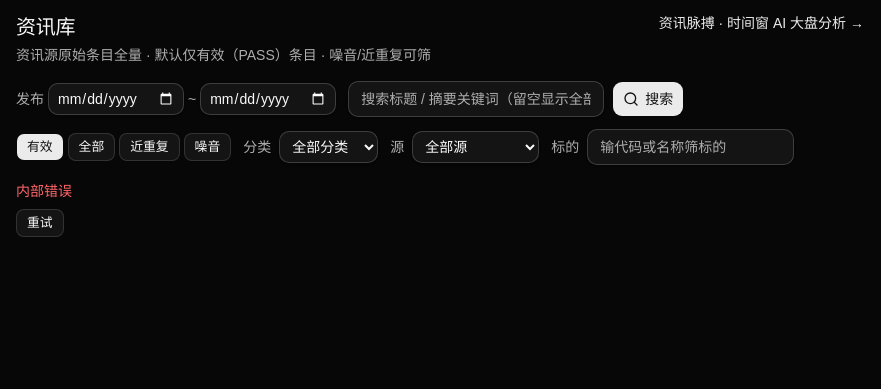
资讯库页（M19 T161，REQ-20260926-16 拍板一） › 错误态：列表接口失败 → 错误提示 + 重试恢复
Expected: the element with test id "news-library-error" is shown, [16, 183, 72, 237]
Expected: the message reads "内部错误", [16, 183, 72, 199]
Click the button with test id "news-library-retry" at (40, 223), box [16, 209, 64, 237]
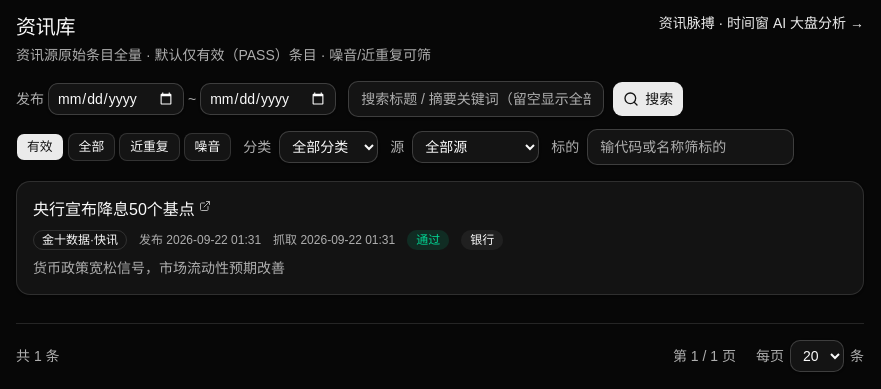
Expected: the element with test id "news-library-item-1" is shown, [16, 181, 864, 295]
